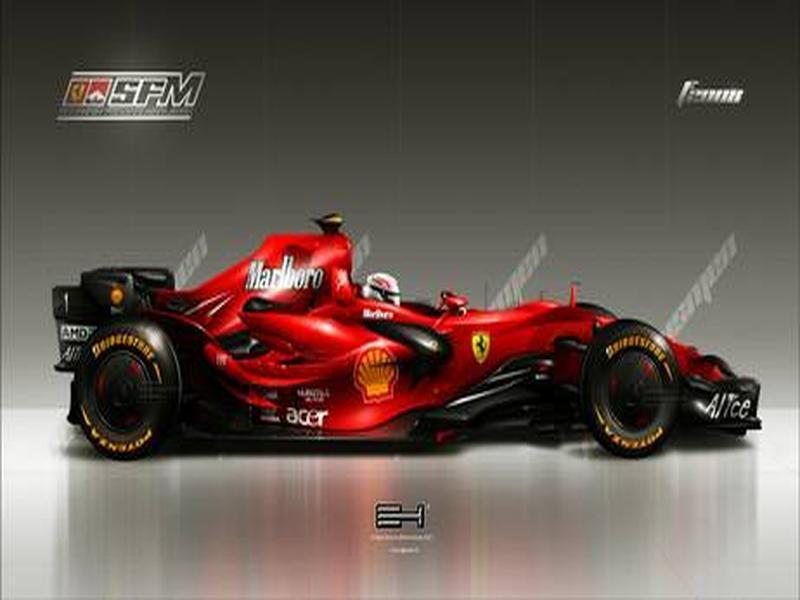f1: (42, 239, 789, 494)
